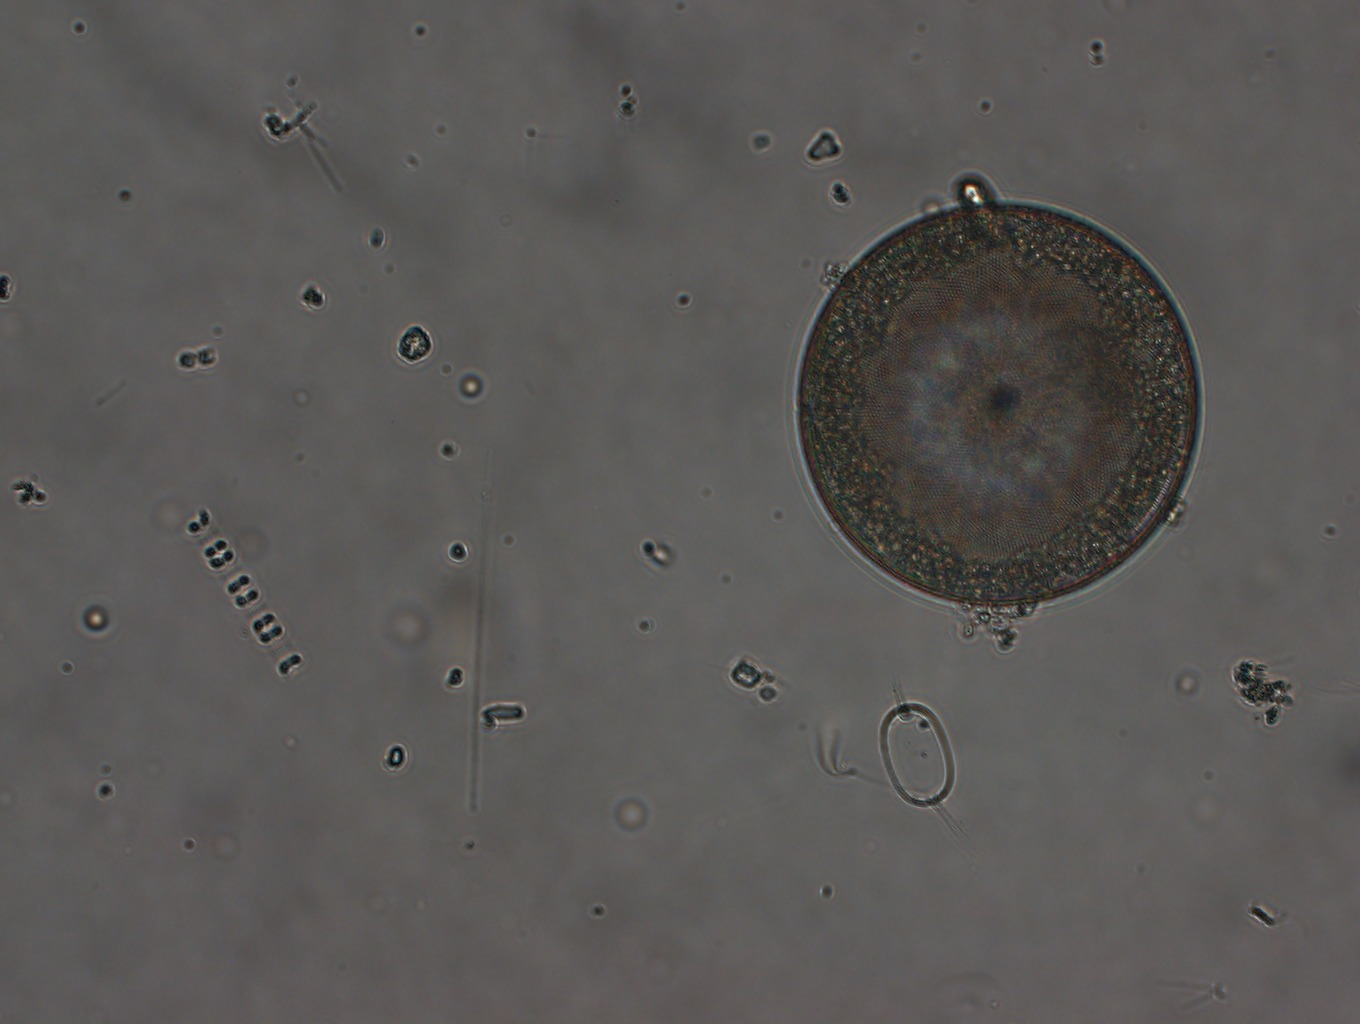coscinodiscus: (790, 191, 1209, 618)
skeletonema: (178, 501, 305, 681)
